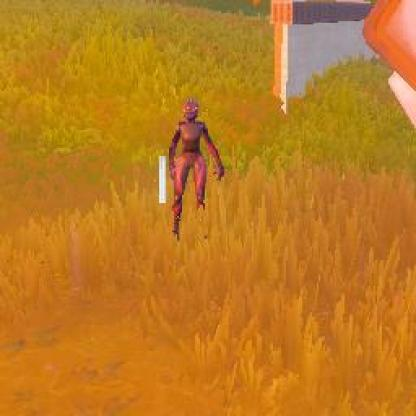dumpster: (169, 99, 224, 244)
